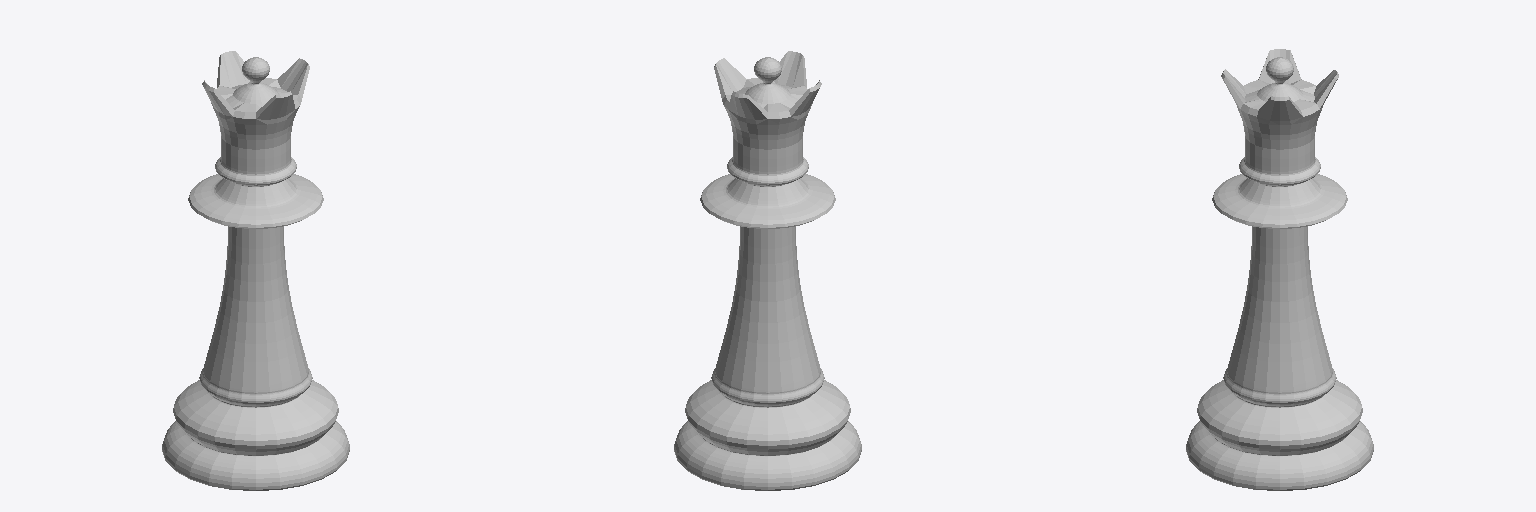
Rendered from regina.obj.
3 views of the same model, side by side, from view 1: azimuth 30°, elevation 25°; view 2: azimuth 150°, elevation 25°; view 3: azimuth 270°, elevation 25° (orthographic).
Parts seen in each view (by area): view 1: Cylinder.006; view 2: Cylinder.006; view 3: Cylinder.006.
Boxes of the visible parts, <box> form: Cylinder.006: <box>162,51,349,490</box>; Cylinder.006: <box>674,51,861,490</box>; Cylinder.006: <box>1186,49,1373,490</box>.
Bounding box in the file's own units: 1.49 × 3.47 × 1.5.